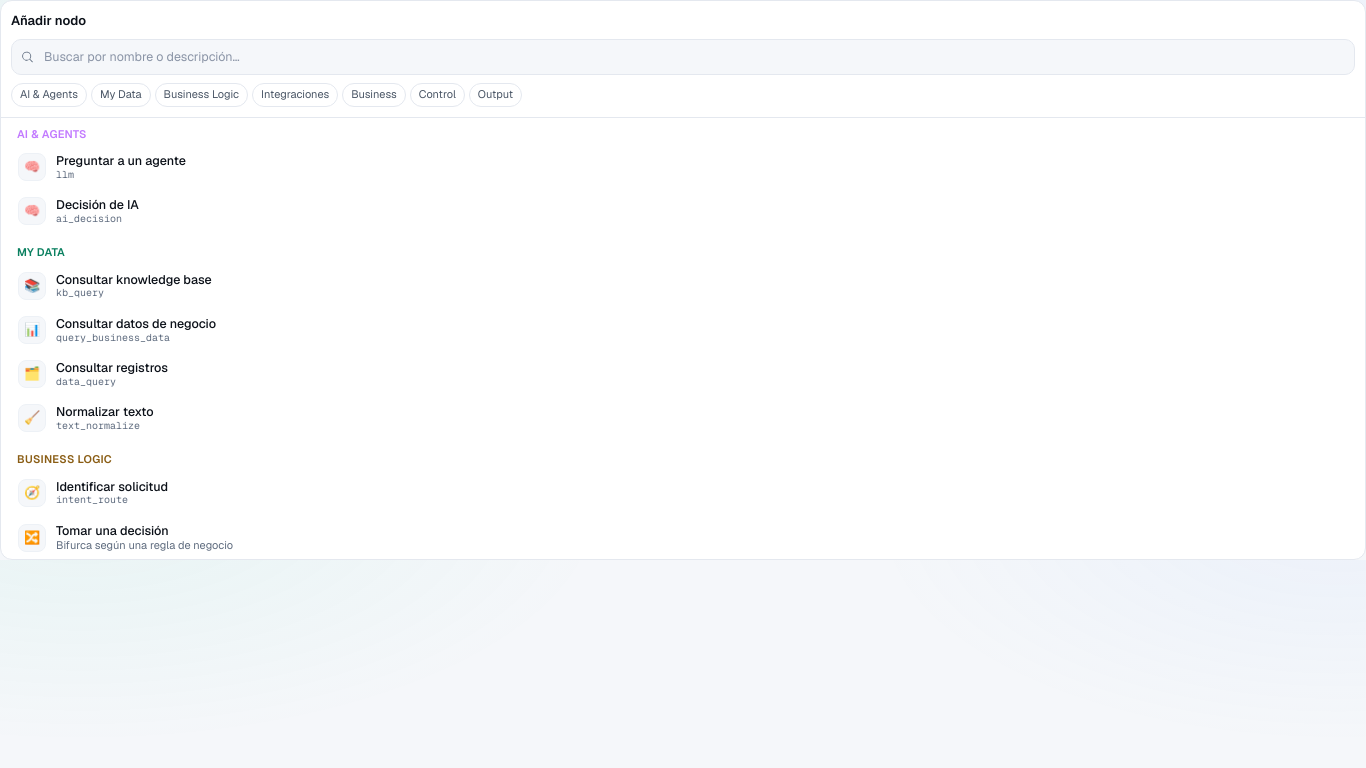
NodeLibrary catálogo contextual › filtra por categoría y busca también en la descripción
Click the button "AI & Agents" at [49, 94], box [11, 82, 87, 106]
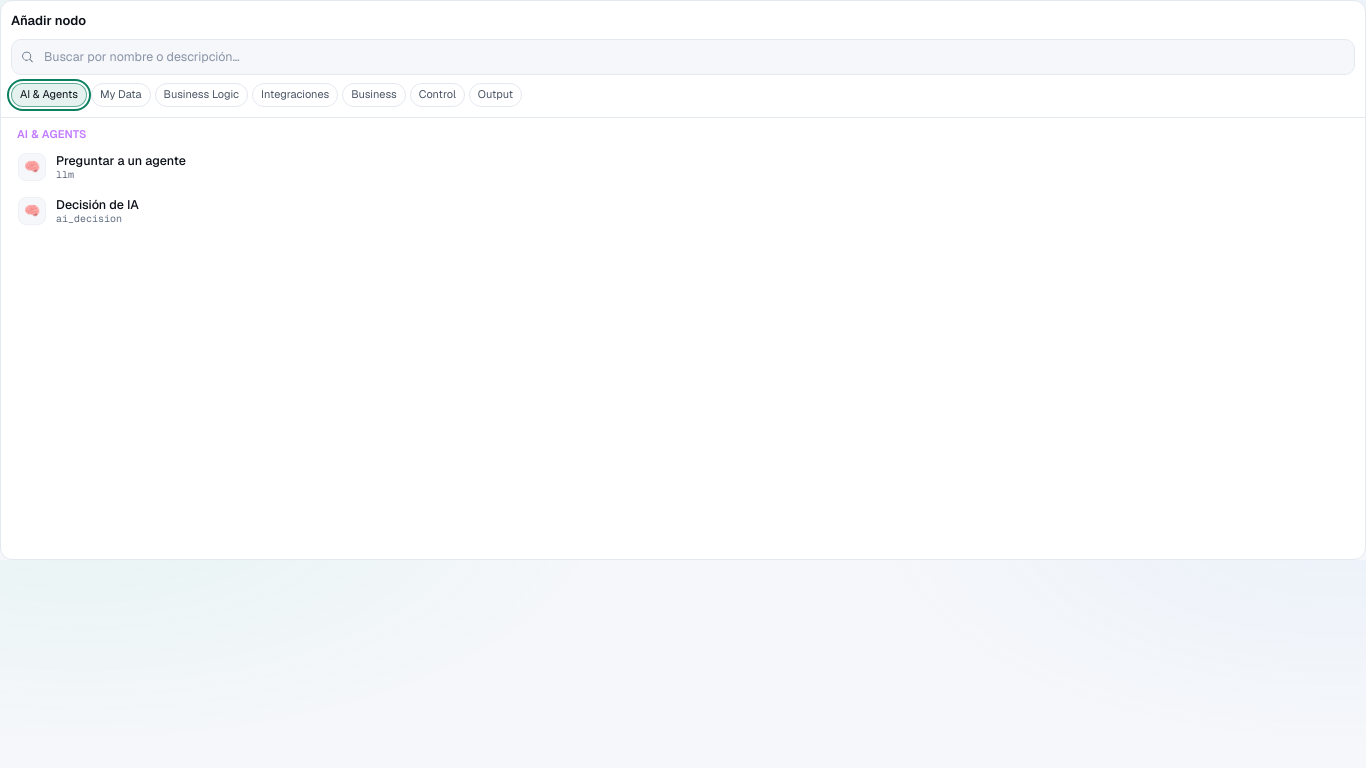
Expected: the element "AI & Agents" is shown, [9, 126, 1357, 232]
Click the button "AI & Agents" at [49, 94], box [11, 82, 87, 106]
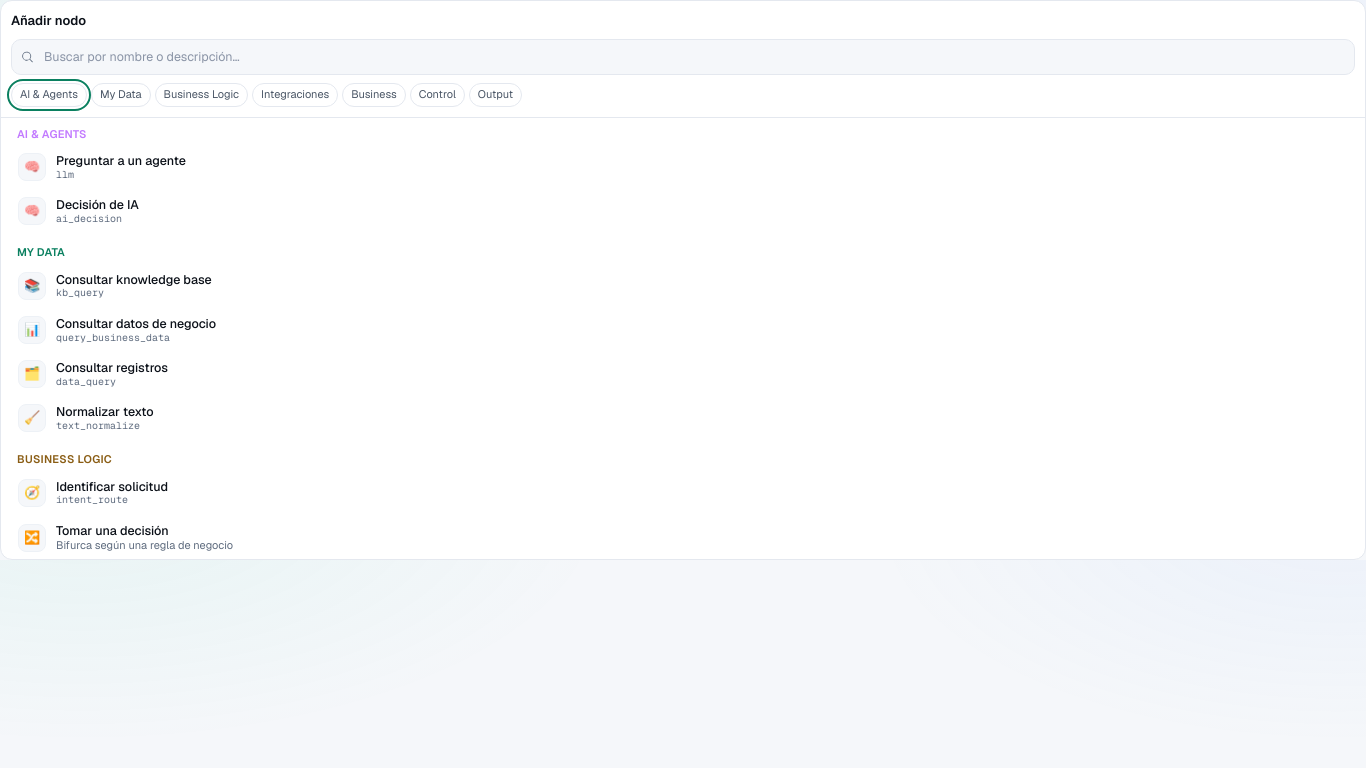
Type "bifurca" into the field named "Buscar nodo" at [683, 56], box [11, 38, 1355, 74]
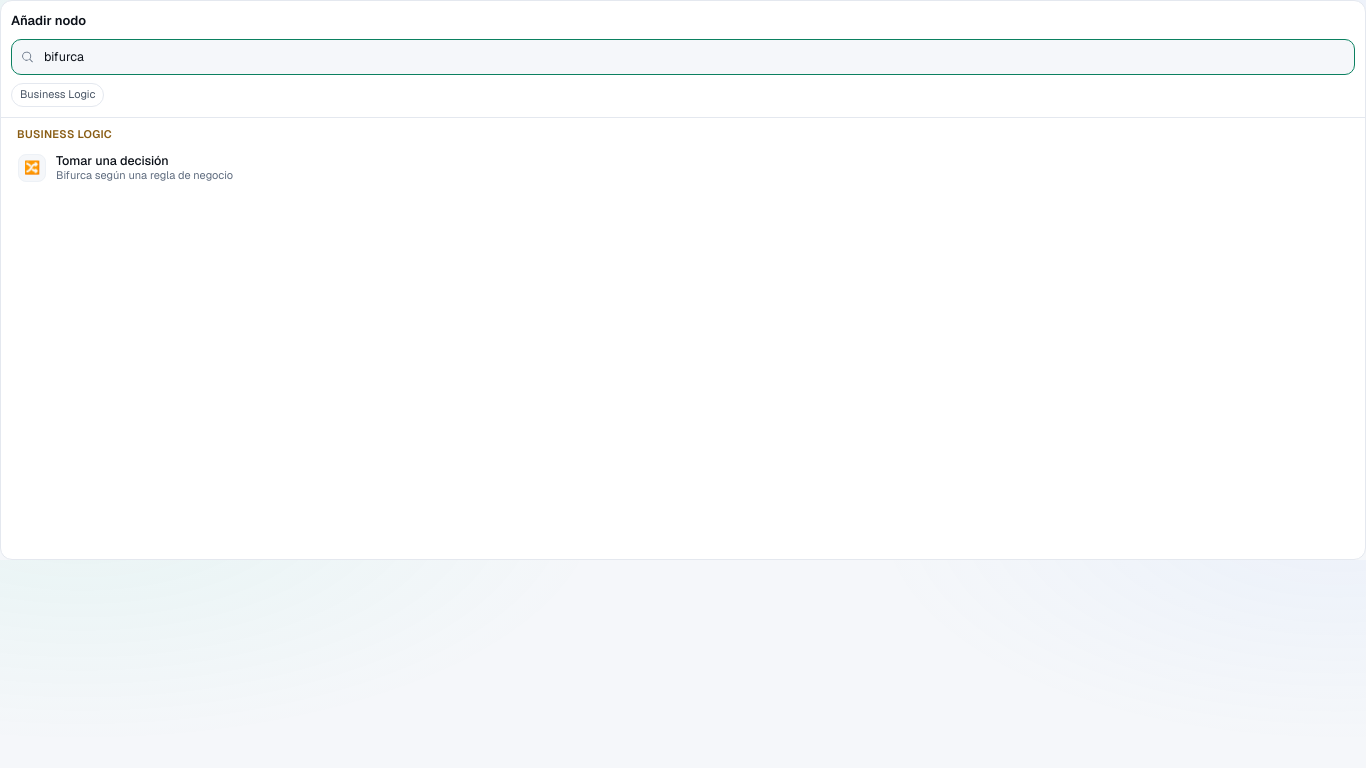
Now the button with test id "wf-add-condition" shows "Bifurca según una regla de negocio", box [9, 146, 1357, 189]
Now the button with test id "wf-add-llm" is gone
